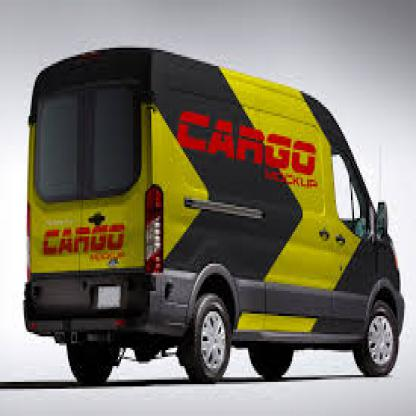van: (21, 41, 406, 380)
